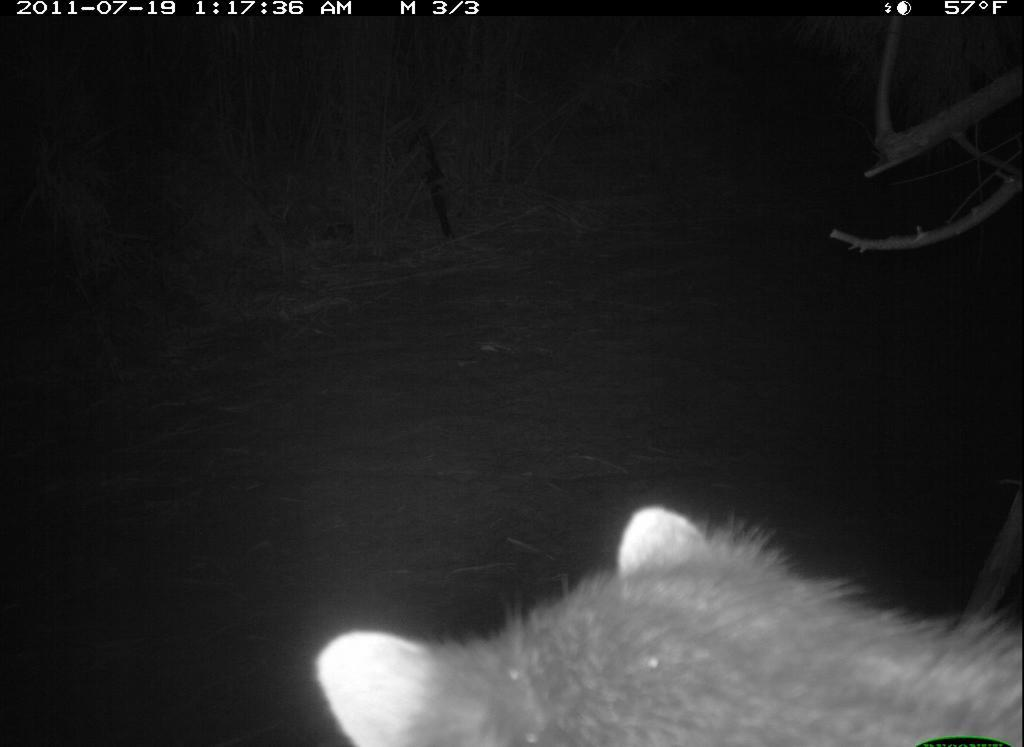raccoon: (308, 488, 1023, 747)
